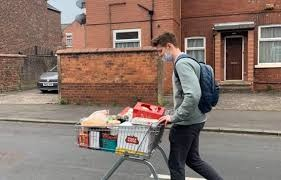with_basket: (79, 107, 171, 179)
with_mask: (156, 34, 175, 64)
